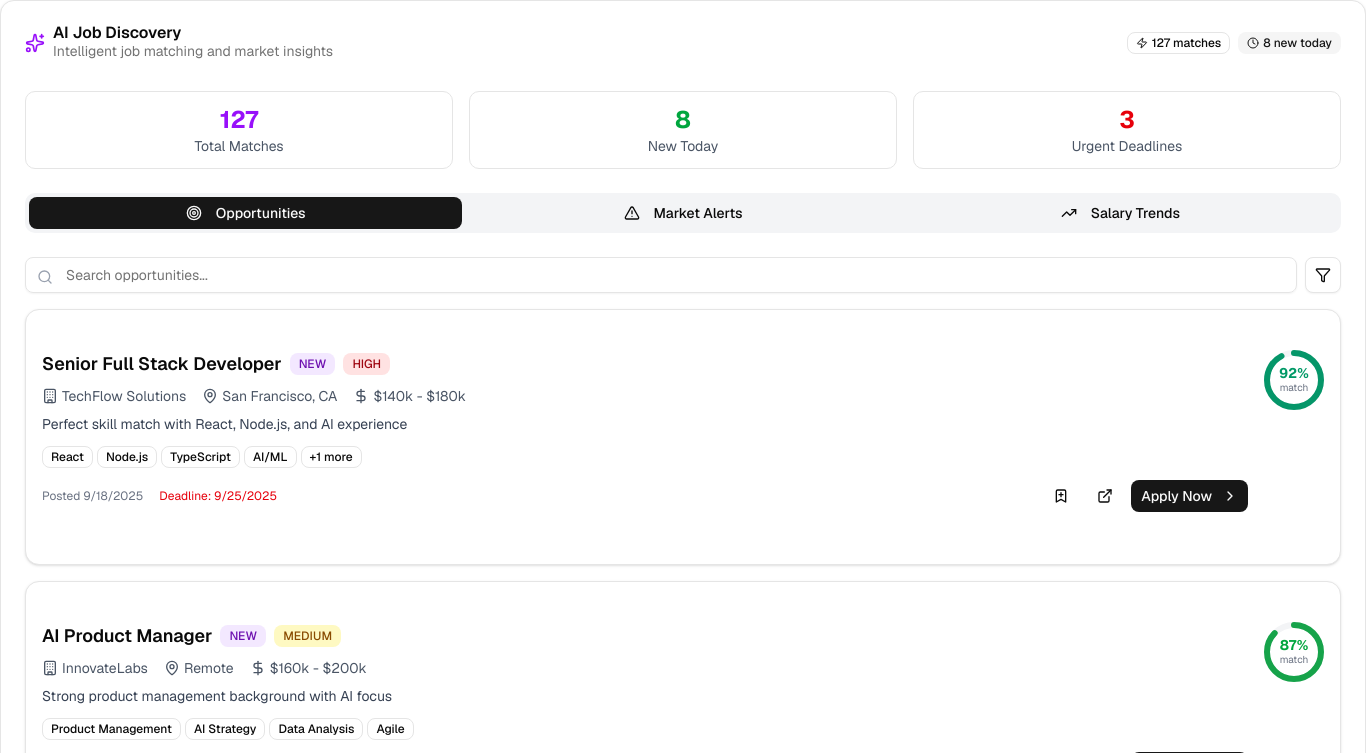
it: AIJobDiscovery › should display salary trends with proper indicators
// Switch to salary trends tab
Click the button "Salary Trends" at (1120, 213), box [904,197,1337,229]
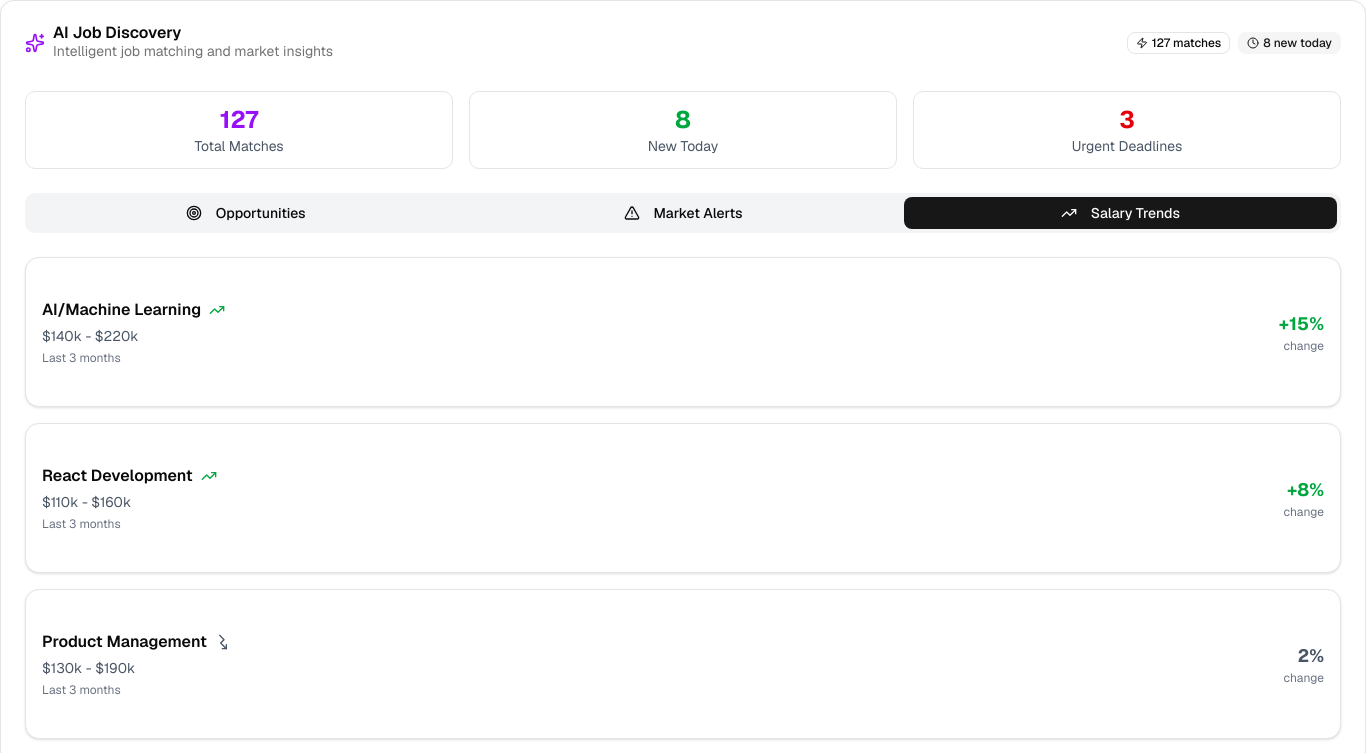
Result: the text "$140k - $220k" is shown at [42,327,138,345]
Result: the text "$110k - $160k" is shown at [42,493,131,511]
Result: the text "$130k - $190k" is shown at [42,659,135,677]
